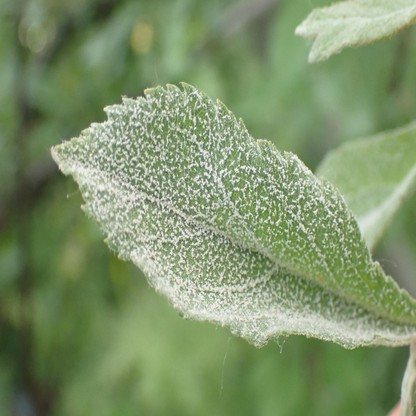powder: (51, 81, 416, 348), (293, 2, 416, 62), (360, 167, 416, 254)
